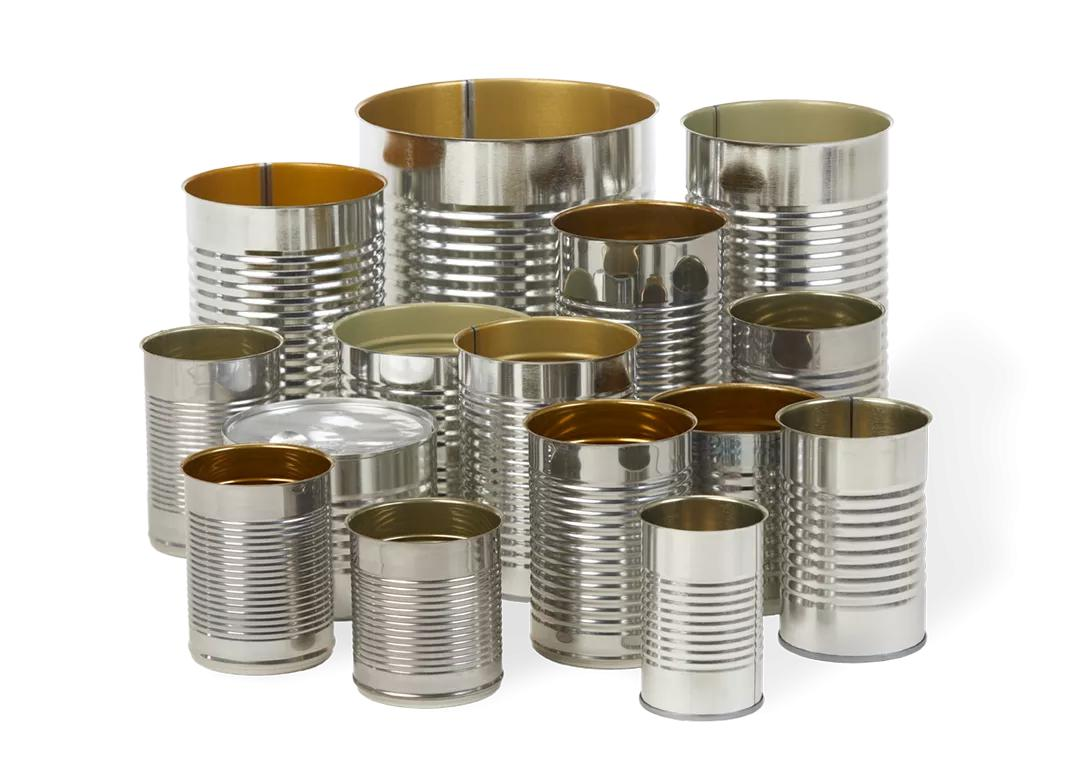cylinder: (354, 78, 660, 317), (679, 99, 894, 398), (452, 315, 641, 602), (181, 162, 389, 402), (221, 397, 439, 622), (522, 398, 697, 670), (775, 395, 933, 663), (649, 382, 825, 616), (332, 302, 532, 498), (179, 442, 336, 676), (550, 199, 730, 401), (139, 324, 285, 558), (344, 497, 504, 709), (636, 494, 768, 720), (726, 290, 886, 398)
